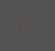eight: (19, 20, 26, 31), (27, 20, 34, 30)
